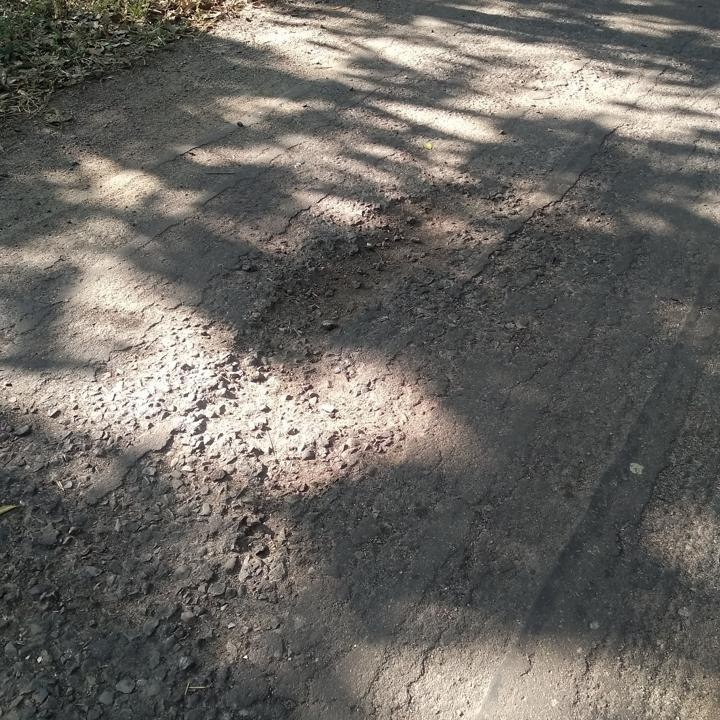pothole: (222, 184, 509, 371)
